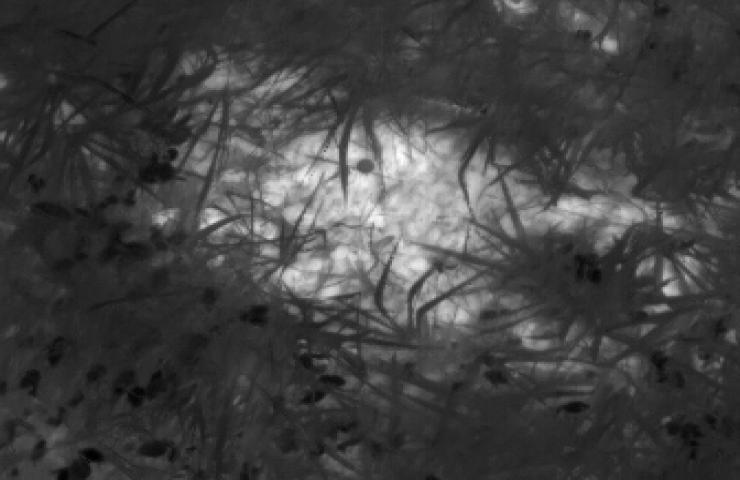landmines: (157, 41, 538, 340)
